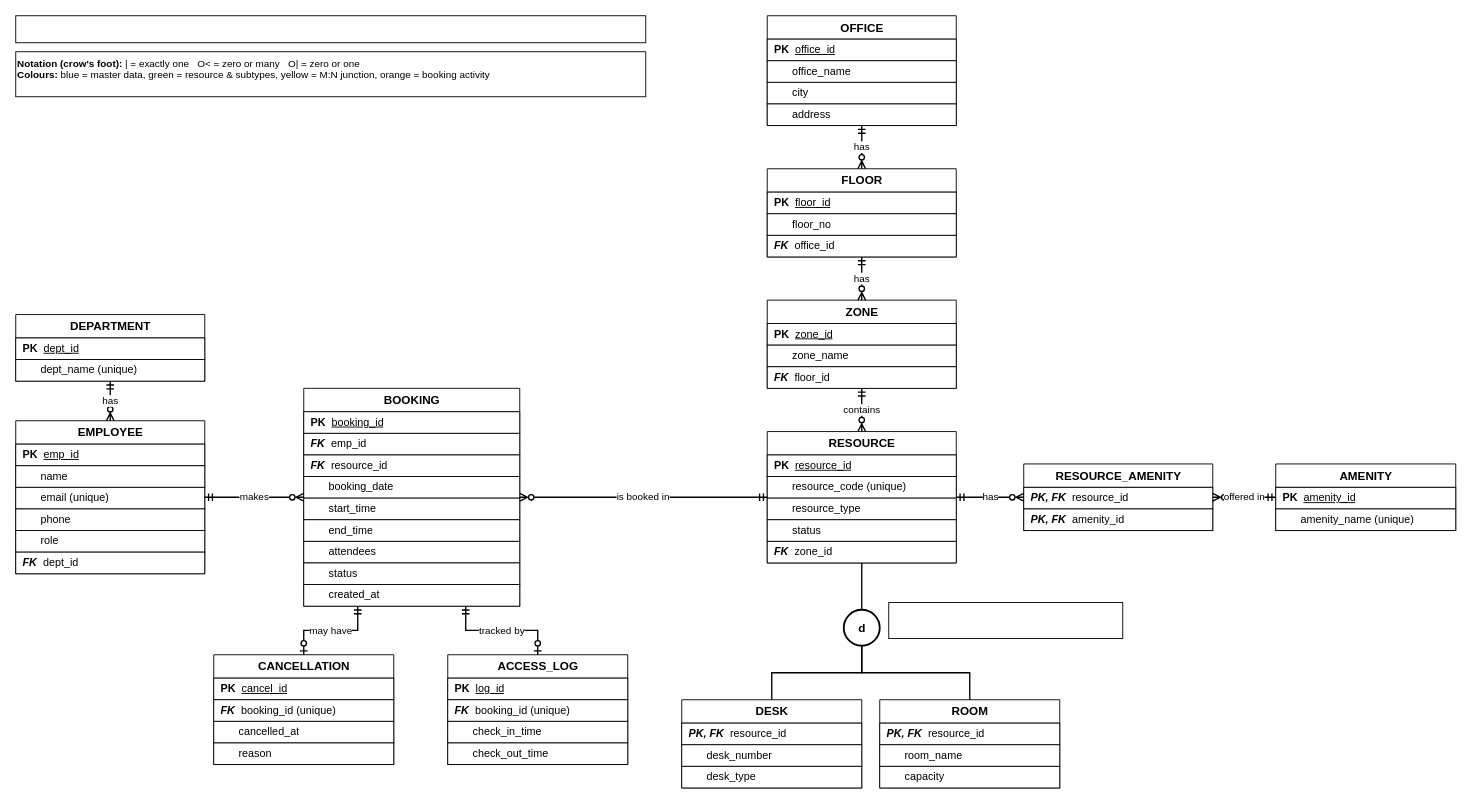
The diagram is 1472 pixels wide and 804 high, and some of its shapes have lost their labels. Here are the shapes that lost their labels. From the top down, the centre of each, then its label:
At [330,29]: "ER / EER Diagram: Smart Office Seat & Co-working Space Allocation System".
At [1005,620]: "Specialization: disjoint, total (every resource is either a Desk or a Room)".
